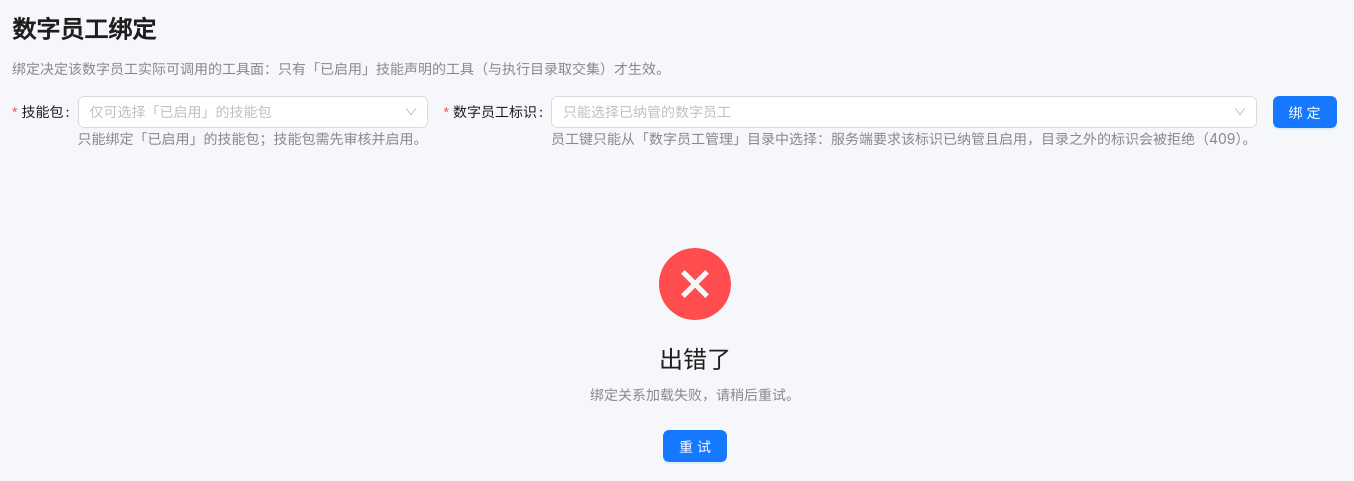
Test case: 列表与动作可用性 › 读失败：错误态可重试
This screenshot has width=1354, height=481.
Expected: the text "绑定关系加载失败，请稍后重试。" is shown, top-left (590, 384), bottom-right (800, 406)
Click the button "重 试" at (695, 446), box top-left (663, 430), bottom-right (727, 462)
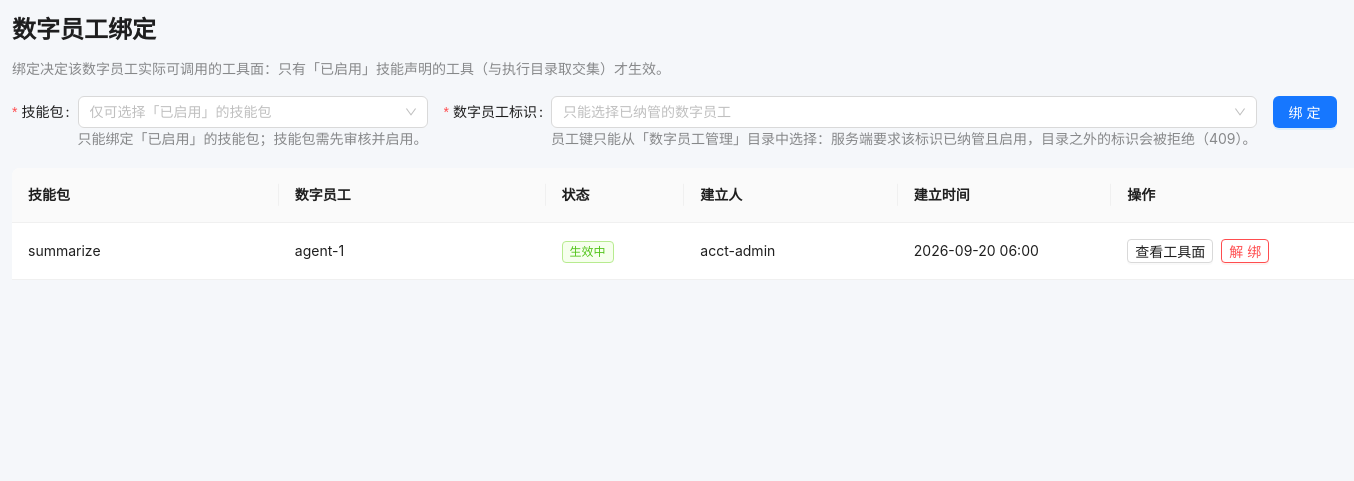
Expected: the text "summarize" is shown, top-left (12, 223), bottom-right (279, 280)
